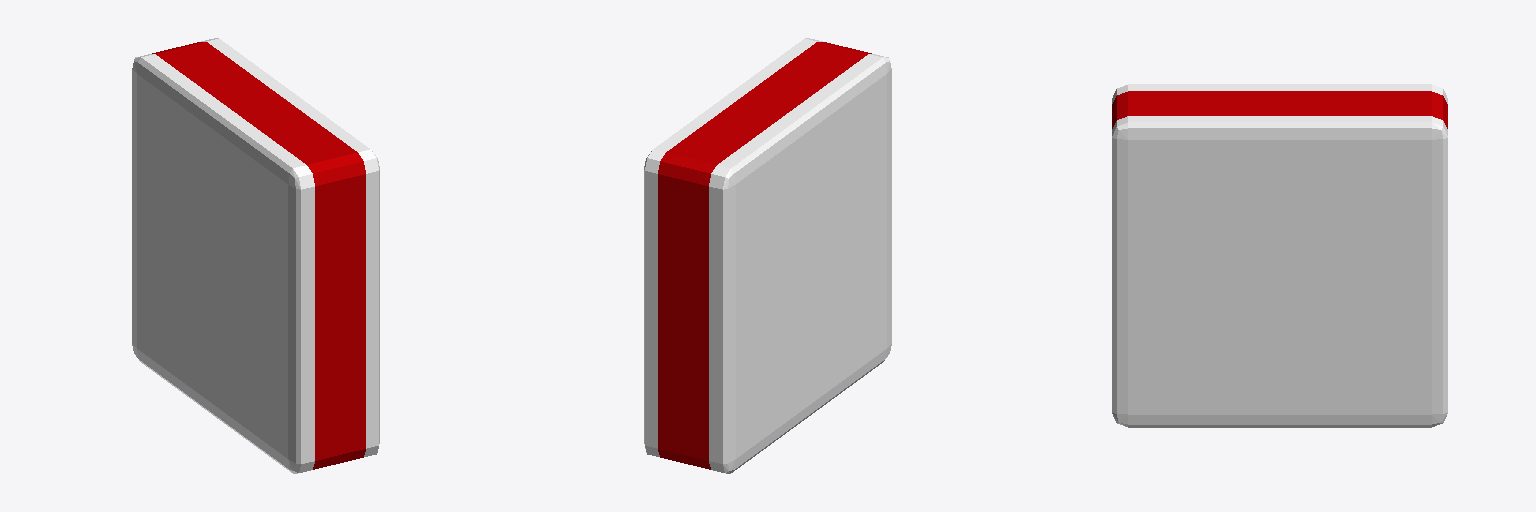
Rendered from piece.obj.
3 renders of one model, left to right at view 1: azimuth 30°, elevation 25°; view 2: azimuth 150°, elevation 25°; view 3: azimuth 270°, elevation 25°, orthographic.
Visible parts, largest first — view 1: Cube; view 2: Cube; view 3: Cube.
Boxes of the visible parts, x1=… form: Cube: x1=132, y1=38, x2=379, y2=473; Cube: x1=644, y1=38, x2=891, y2=473; Cube: x1=1112, y1=84, x2=1447, y2=427.
Bounding box in the file's own units: 0.5944 × 2 × 2.